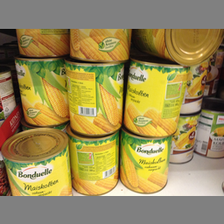corn: (123, 56, 186, 136), (64, 57, 125, 137), (1, 128, 71, 194), (12, 57, 69, 126), (131, 30, 223, 67), (70, 131, 121, 196), (122, 129, 169, 194)
